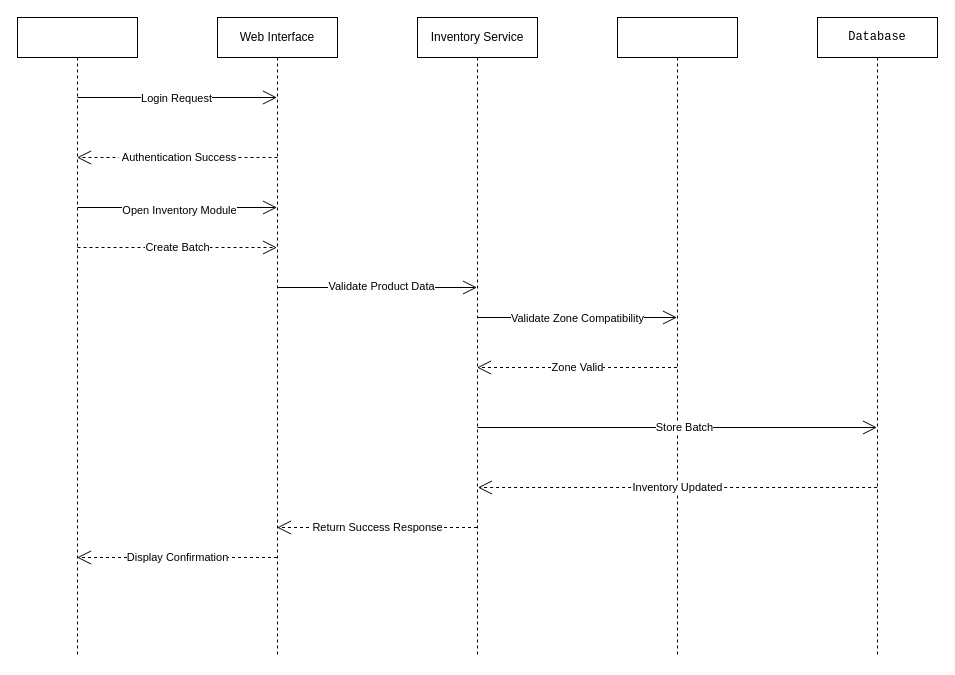
Some shapes in this 955 by 675 pixel diagram are drawn without their labels. Here are the shapes that lost their labels. From the top down, the box of each, then its label:
(16, 16, 138, 658): Operations Staff
(616, 16, 738, 658): Warehouse Zone Service
